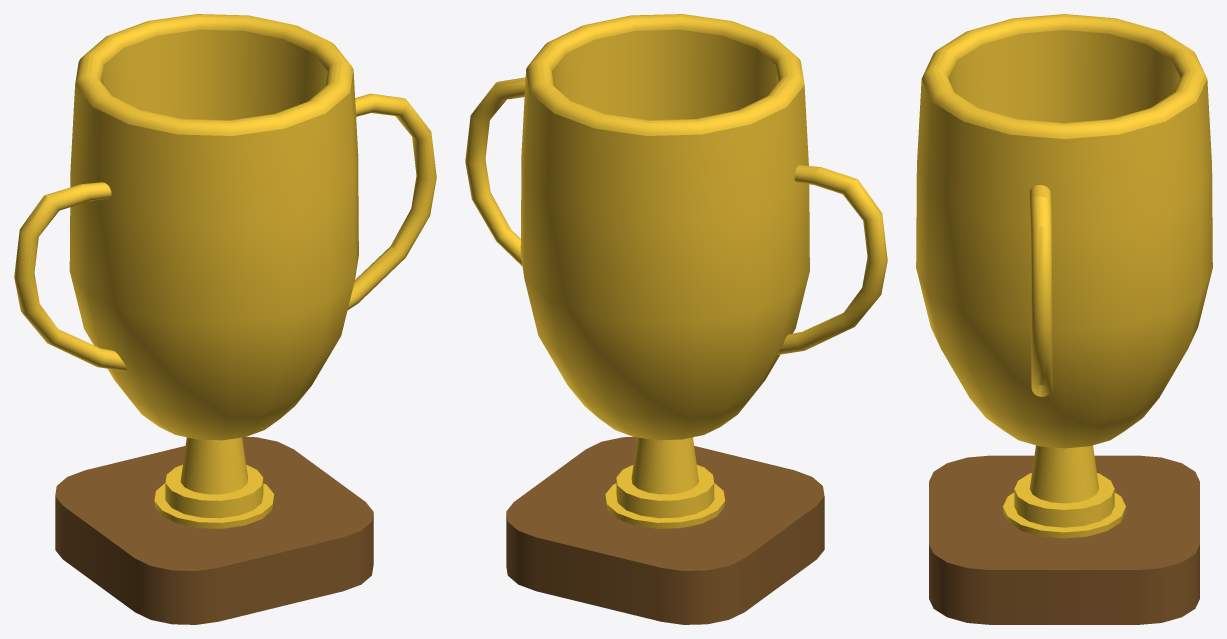
File: Sport Cup_1.fbx
The picture shows the model from 3 angles, left to right: view 1: azimuth 30°, elevation 25°; view 2: azimuth 150°, elevation 25°; view 3: azimuth 270°, elevation 25°; orthographic projection.
Visible parts, largest first — view 1: Sport Cup_1; view 2: Sport Cup_1; view 3: Sport Cup_1.
Part boxes in pixels (x1=…): Sport Cup_1: x1=14, y1=14, x2=436, y2=624; Sport Cup_1: x1=465, y1=14, x2=887, y2=624; Sport Cup_1: x1=916, y1=14, x2=1212, y2=624.
Bounding box in the file's own units: 0.2634 × 0.293 × 0.1584.
